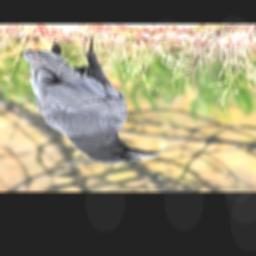Crow: (19, 34, 161, 164)
